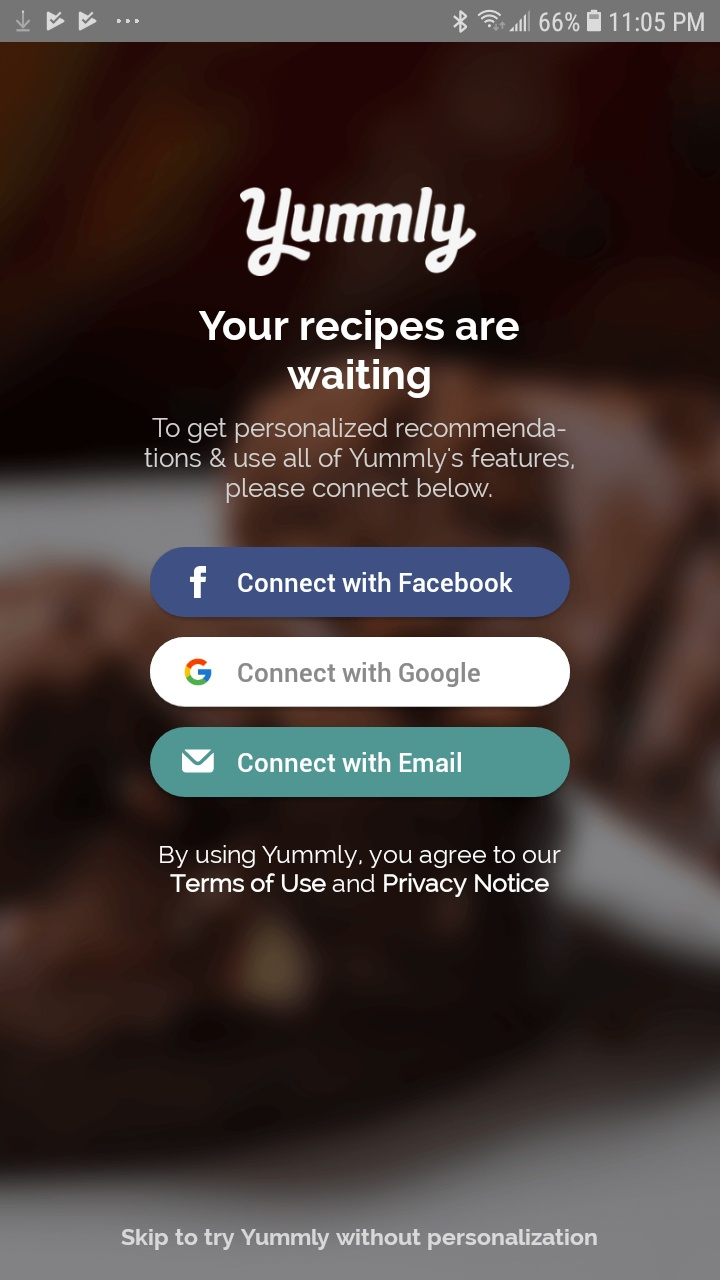BackgroundImage: (1, 43, 720, 1280)
Image: (240, 187, 477, 278)
Text: (144, 417, 575, 504), (199, 309, 520, 399), (160, 844, 562, 898), (122, 1228, 598, 1251)
TextButton: (151, 546, 571, 618), (150, 727, 571, 798), (150, 637, 571, 708)
UpperTaskBar: (1, 1, 720, 43)
